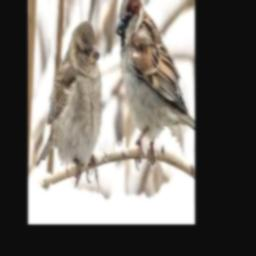Sparrow: (116, 0, 195, 171), (35, 20, 102, 190)
